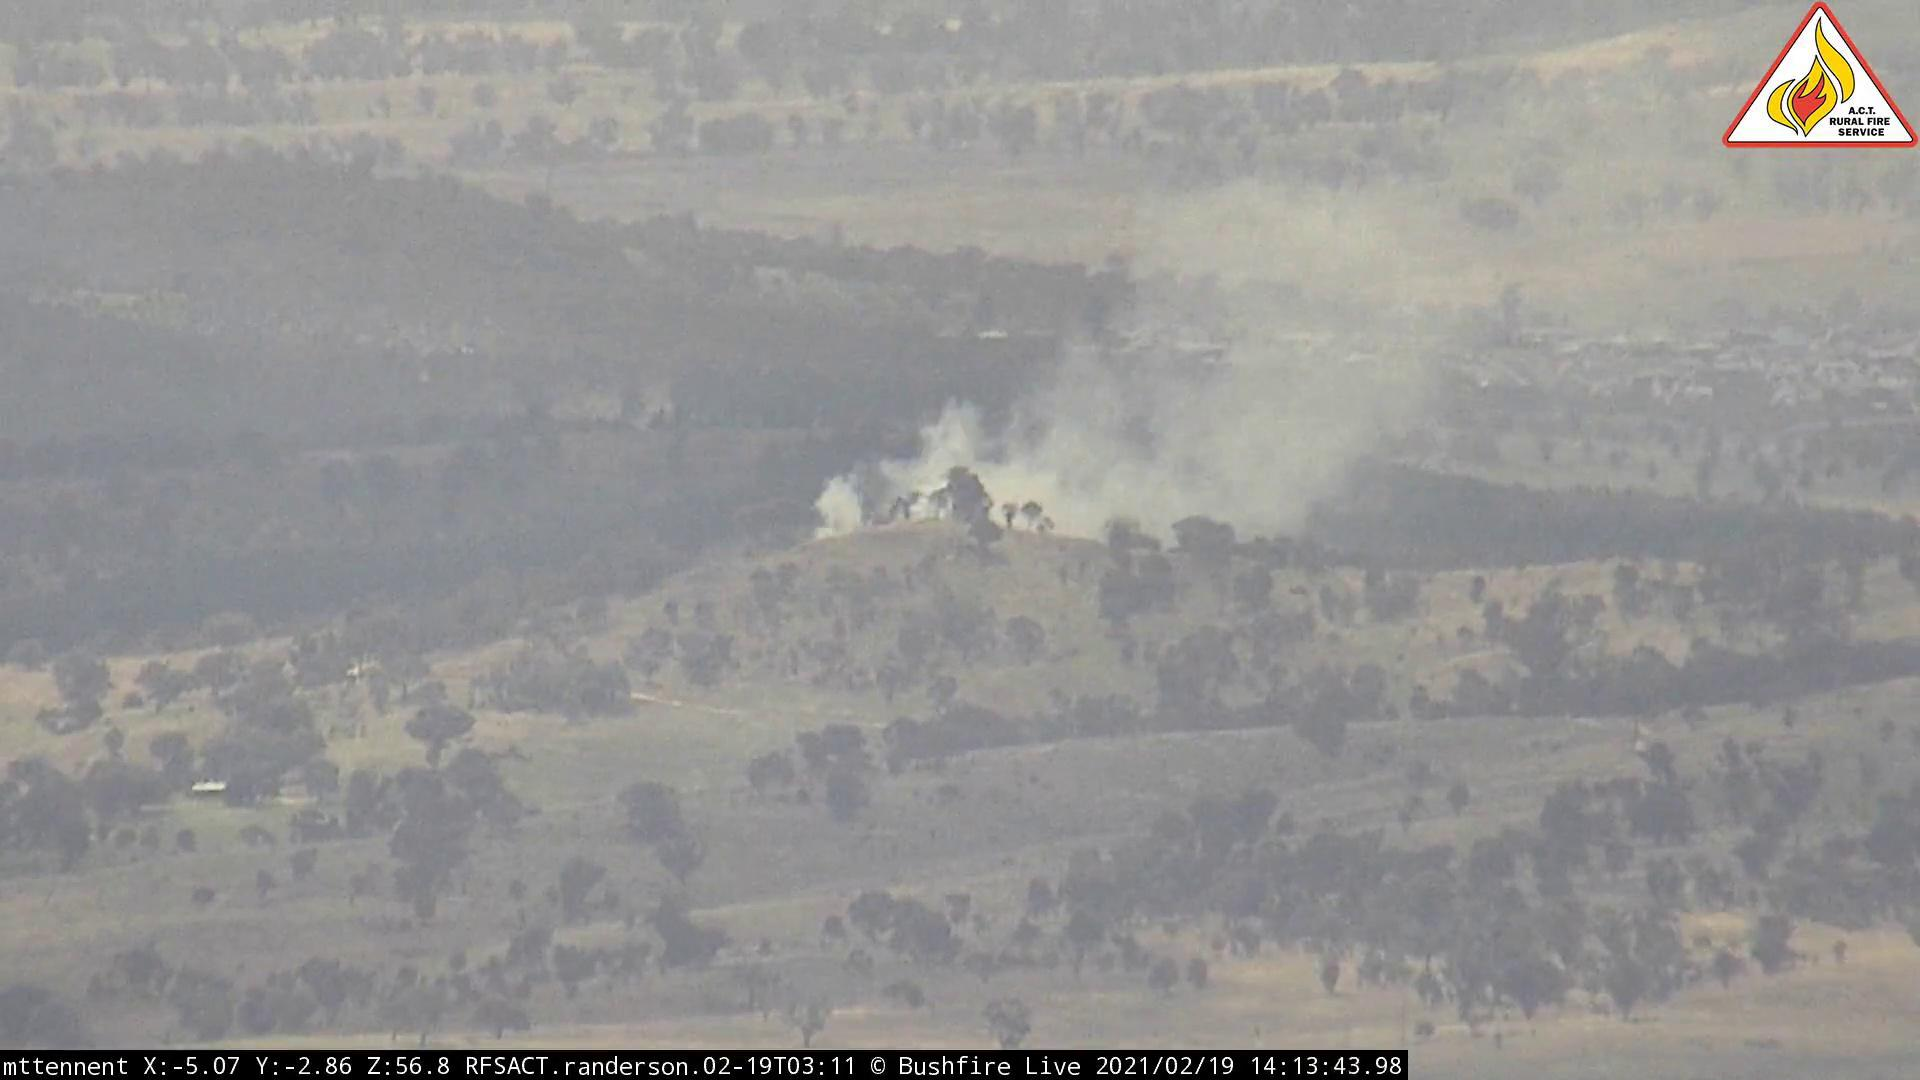Smoke: (808, 152, 1532, 570)
